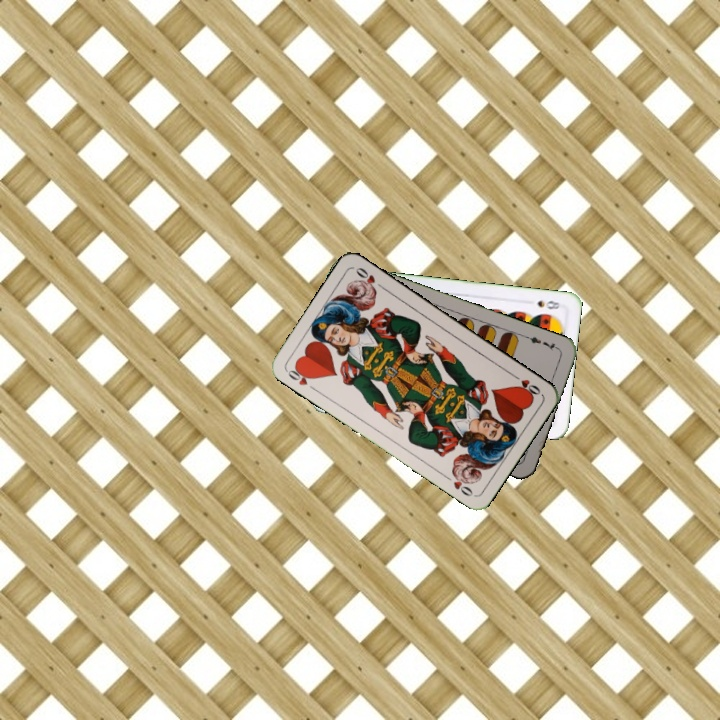E7: (522, 332, 561, 353)
HO: (283, 362, 319, 394), (508, 370, 543, 399)
S8: (533, 296, 563, 312)
